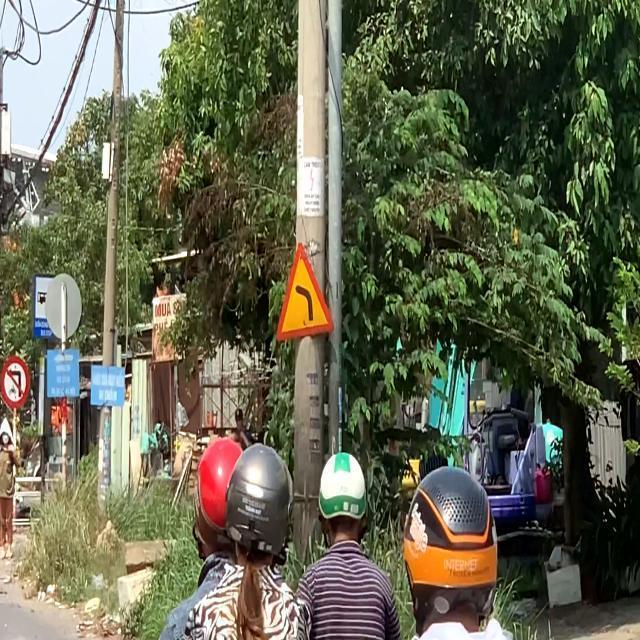201-cho-ngoat-nguy-hiem: (274, 245, 334, 342)
